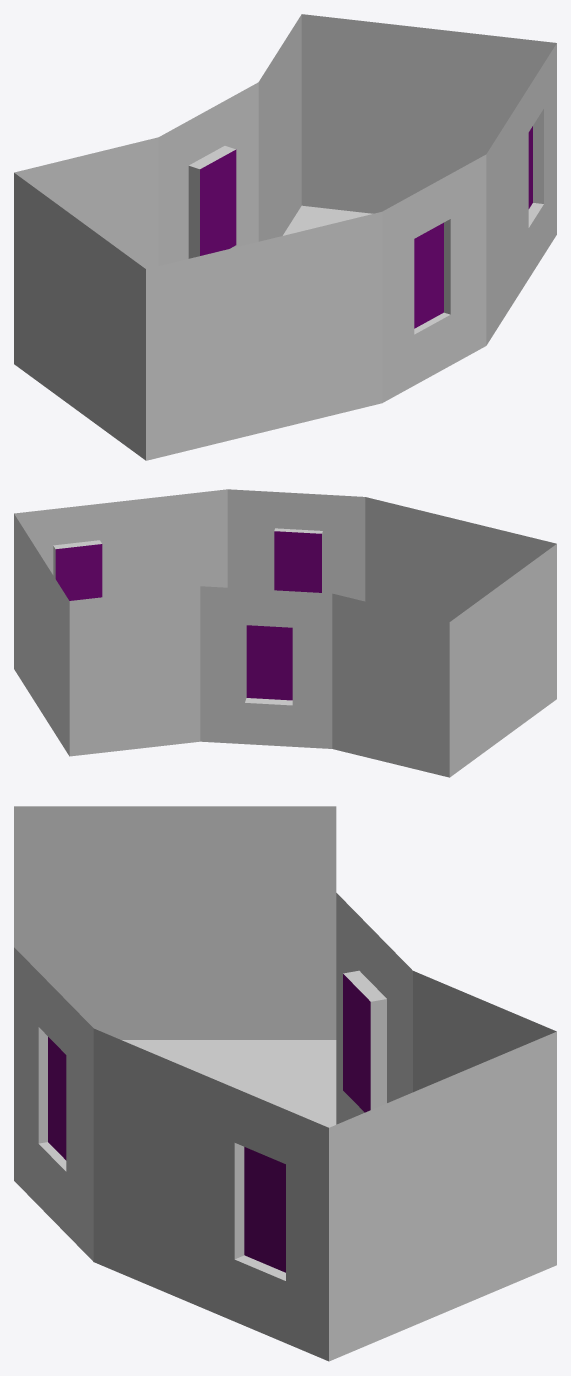
File: curve45_mid_1.fbx
3 renders of one model, top to bottom at view 1: azimuth 30°, elevation 25°; view 2: azimuth 150°, elevation 25°; view 3: azimuth 270°, elevation 25°, orthographic. The views are drawn at different scales.
Visible parts, largest first — view 1: curve45_mid_1; view 2: curve45_mid_1; view 3: curve45_mid_1.
Part boxes in pixels (box(x1,y1,x2,y2)): curve45_mid_1: box(14, 14, 556, 460); curve45_mid_1: box(14, 489, 556, 777); curve45_mid_1: box(14, 806, 556, 1361).
Bounding box in the file's own units: 1180 × 400 × 842.
